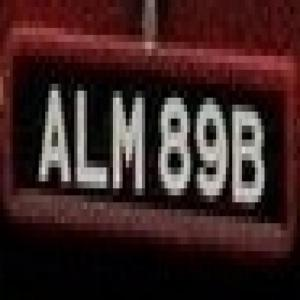Plate: (3, 27, 290, 255)
